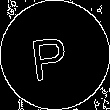P_N: (34, 28, 76, 82)
